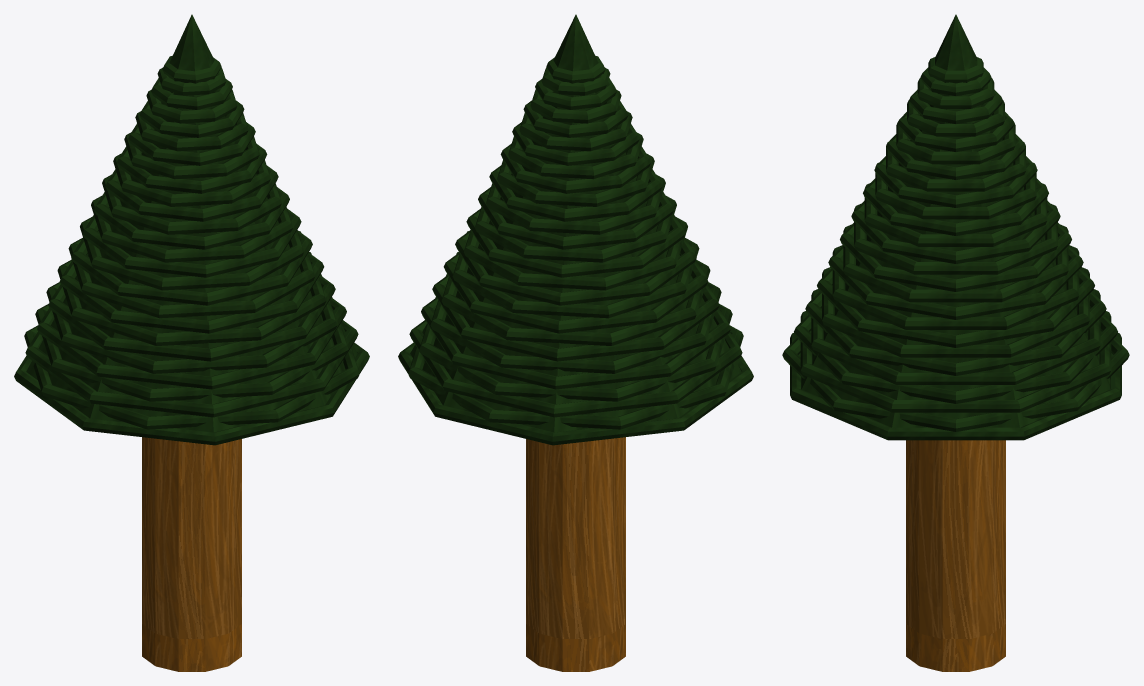
File: Arbre2.fbx
3 views of the same model, side by side, from view 1: azimuth 30°, elevation 25°; view 2: azimuth 150°, elevation 25°; view 3: azimuth 270°, elevation 25° (orthographic).
Visible parts, largest first — view 1: torus; view 2: torus; view 3: torus.
Part boxes in pixels (x1,y1,x2,y2): torus: [14, 14, 369, 671]; torus: [398, 14, 753, 671]; torus: [782, 14, 1129, 671].
Bounding box in the file's own units: 1022 × 2066 × 1022.
Materials: 2 (2 with a texture image).
